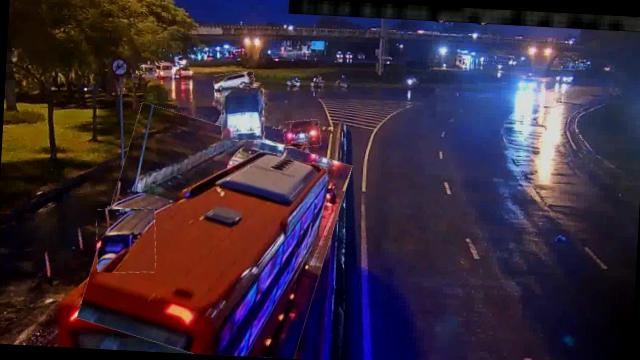Bus: (87, 111, 343, 360)
Car: (94, 206, 157, 274), (282, 118, 320, 148), (212, 70, 254, 92)
Truck: (218, 84, 265, 142)
